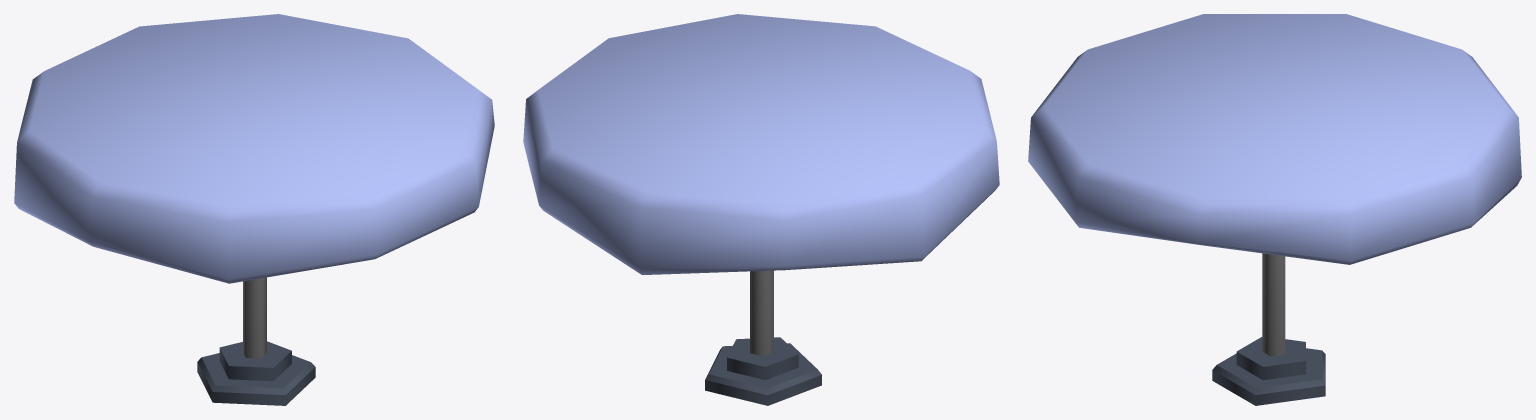
The model's file is Table_1_B.fbx.
The picture shows the model from 3 angles, left to right: view 1: azimuth 30°, elevation 25°; view 2: azimuth 150°, elevation 25°; view 3: azimuth 270°, elevation 25°; orthographic projection.
Parts seen in each view (by area): view 1: Table_1_B; view 2: Table_1_B; view 3: Table_1_B.
Boxes of the visible parts, x1,y1,x2,y2 form: Table_1_B: (14, 14, 494, 405); Table_1_B: (523, 14, 999, 405); Table_1_B: (1028, 14, 1521, 405).
Bounding box in the file's own units: 134 × 86.3 × 141.
